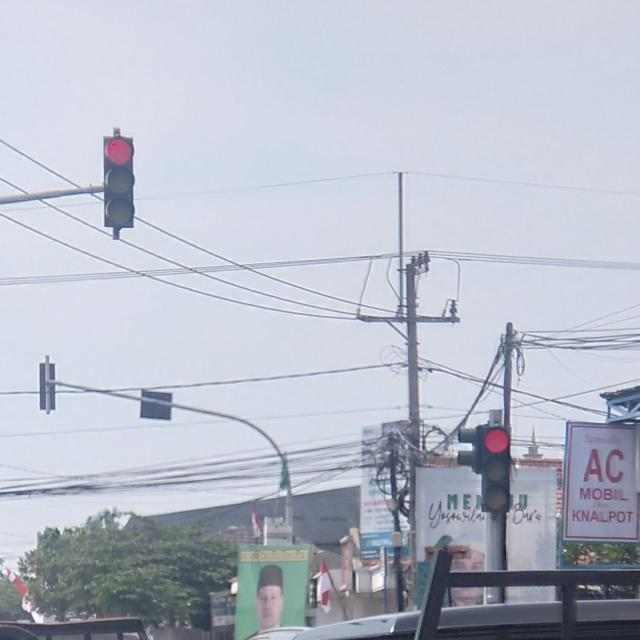car: (102, 137, 136, 230), (480, 424, 512, 517)
